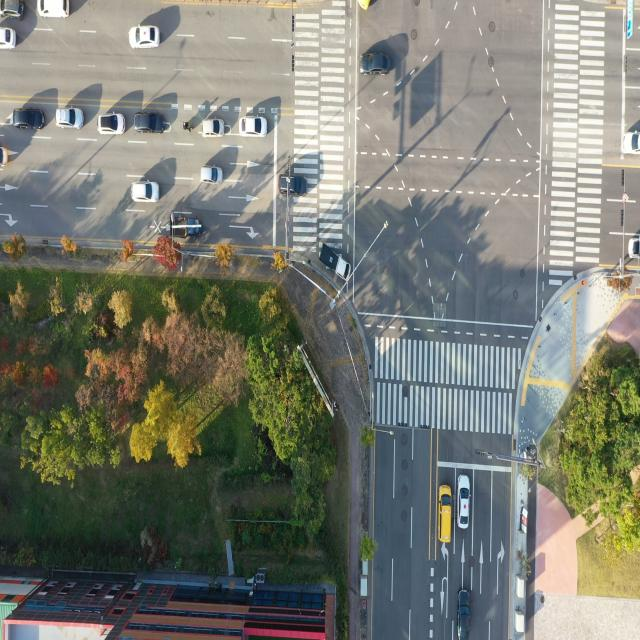car: (434, 482, 452, 545), (456, 588, 472, 639), (13, 107, 45, 132), (458, 474, 472, 530), (130, 179, 160, 205), (356, 54, 391, 76), (134, 110, 166, 134), (127, 25, 159, 49), (36, 0, 70, 19), (279, 174, 307, 197), (99, 113, 125, 135), (57, 107, 83, 129), (200, 117, 225, 139), (0, 0, 26, 21), (240, 116, 266, 136), (199, 165, 223, 186), (622, 132, 640, 158), (0, 26, 17, 48), (626, 235, 640, 260)
small_truck: (320, 240, 351, 283), (170, 214, 208, 243)
